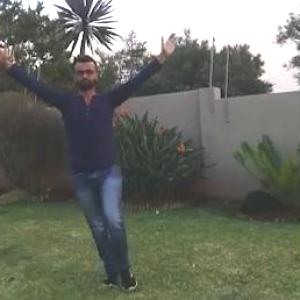takeoff: (1, 32, 178, 299)
